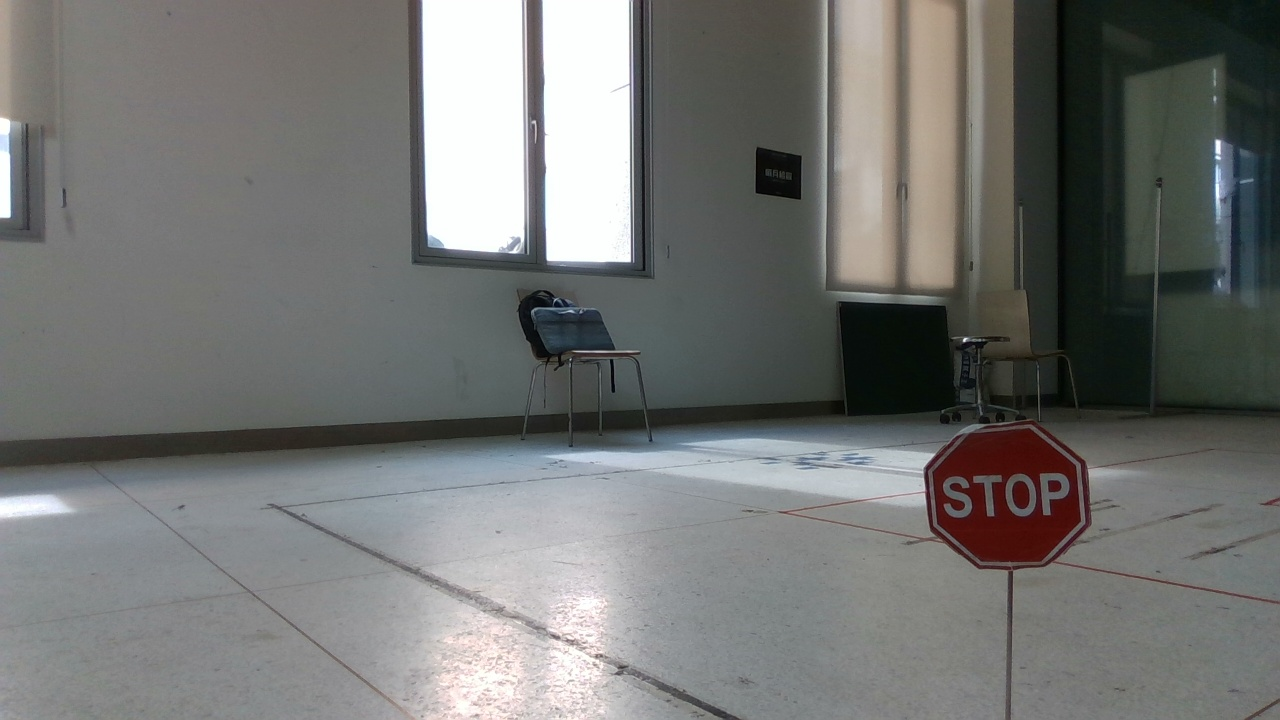stop_sign: (903, 409, 1103, 593)
